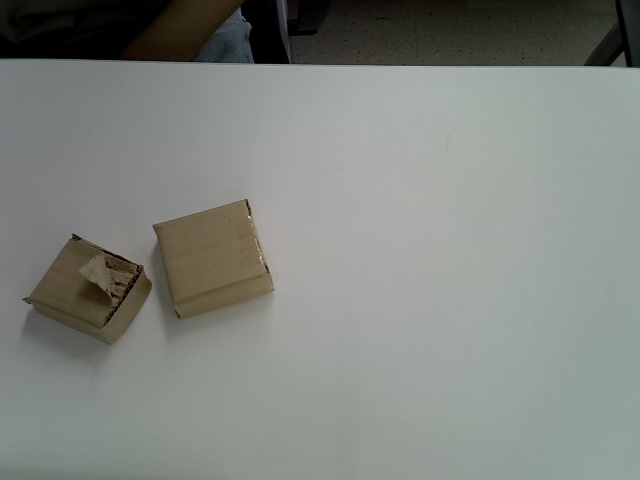defect: (22, 234, 153, 345)
normal: (153, 198, 275, 321)
